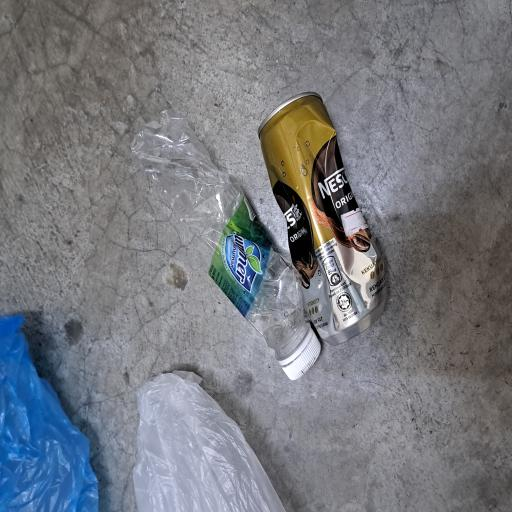can: (125, 342, 314, 512)
plastic bag: (0, 177, 105, 380), (0, 0, 152, 135)
plastic bottle: (116, 172, 302, 408)
plastic bottle cap: (98, 376, 136, 432)
